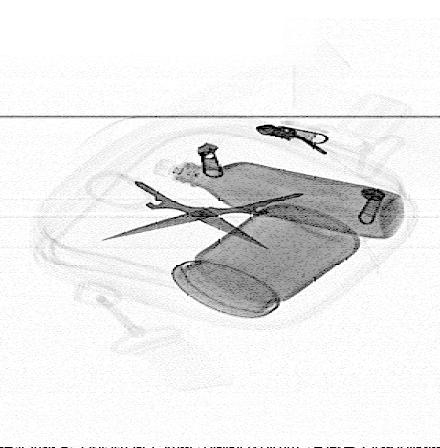Scissors: (82, 170, 356, 250)
